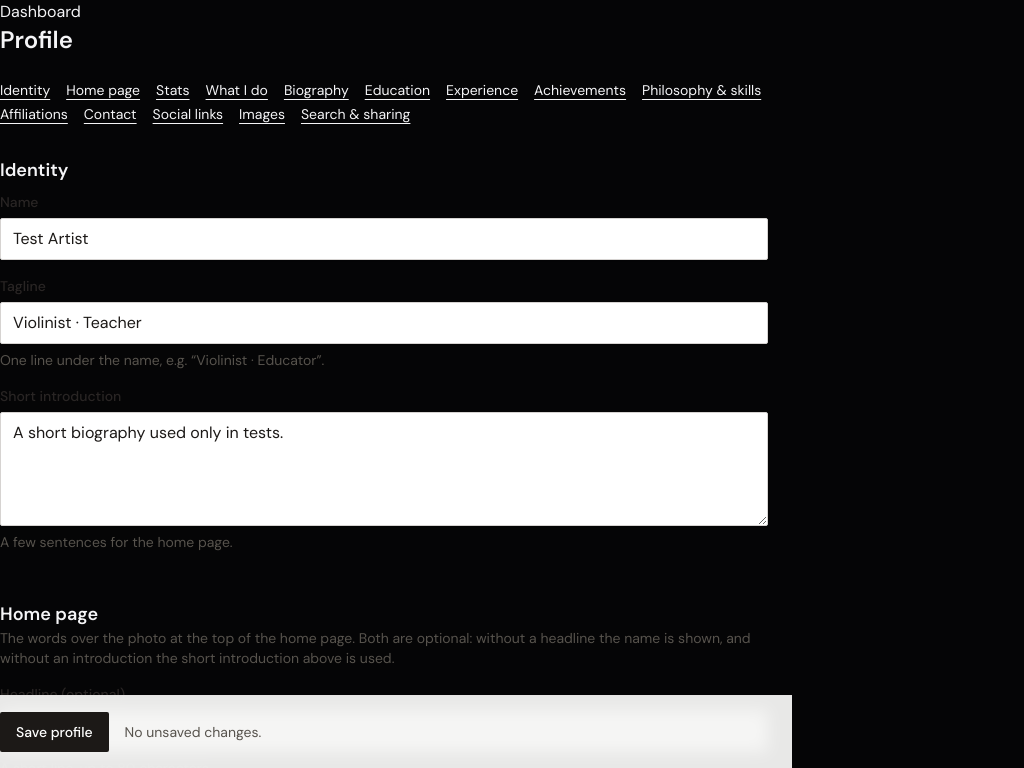
profile editor › asks before leaving with unsaved changes
This screenshot has width=1024, height=768.
Type " and more" into the field labelled "Tagline" at (384, 323), box [0,302,768,344]
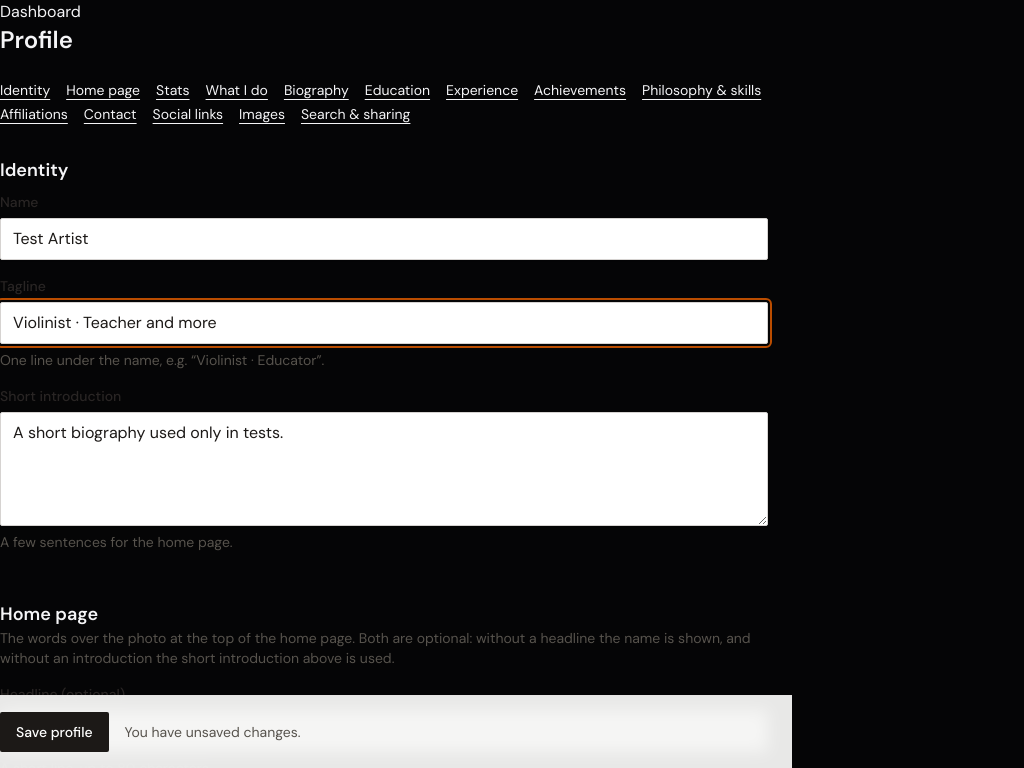
Click the link "Dashboard" at (40, 12), box [0,1,81,22]
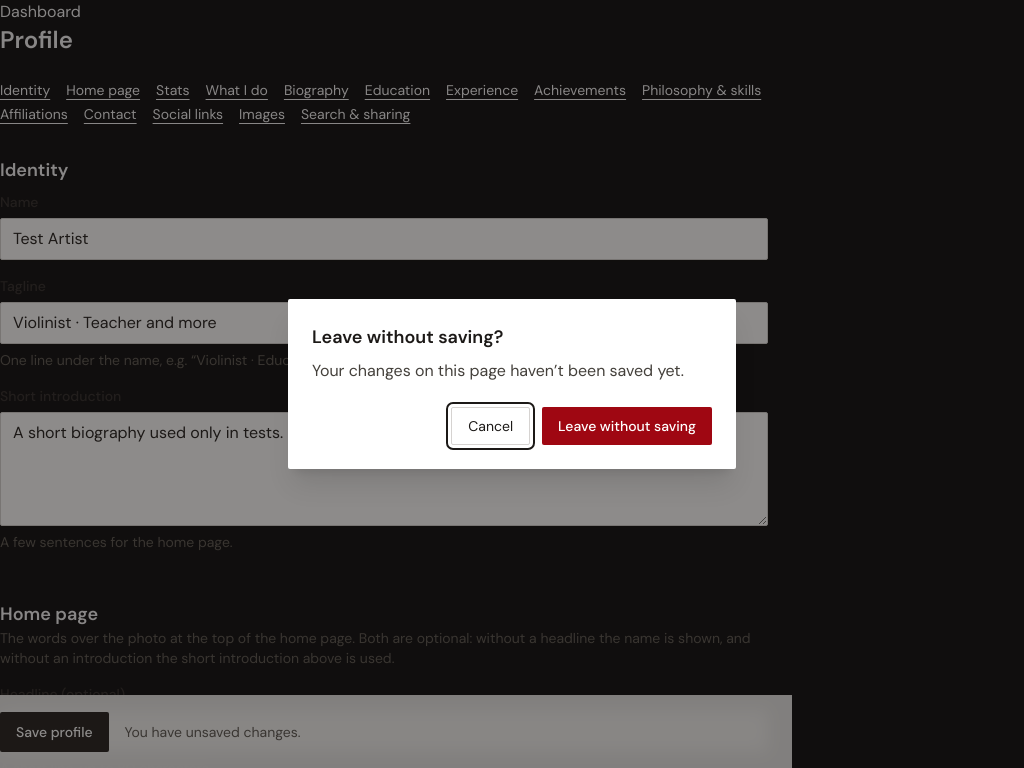
Click the button "Cancel" at (491, 426), box [451,407,530,445]
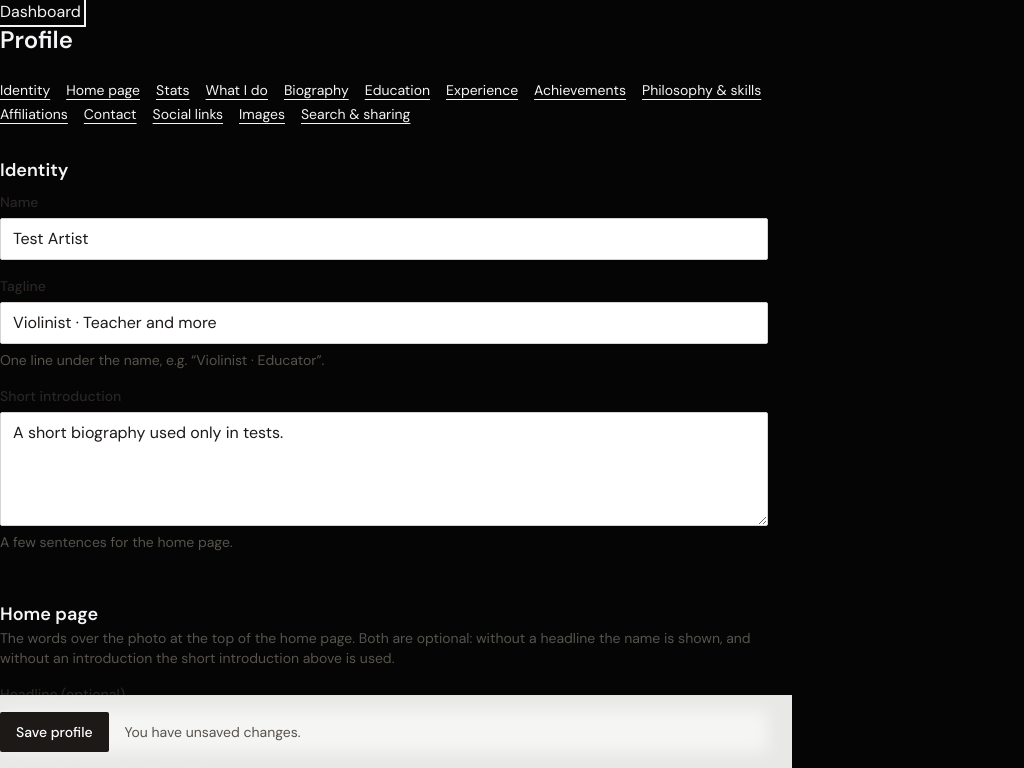
Check: the field labelled "Tagline" holds "Violinist · Teacher and more", box [0,302,768,344]
Click the link "Dashboard" at (40, 12), box [0,1,81,22]
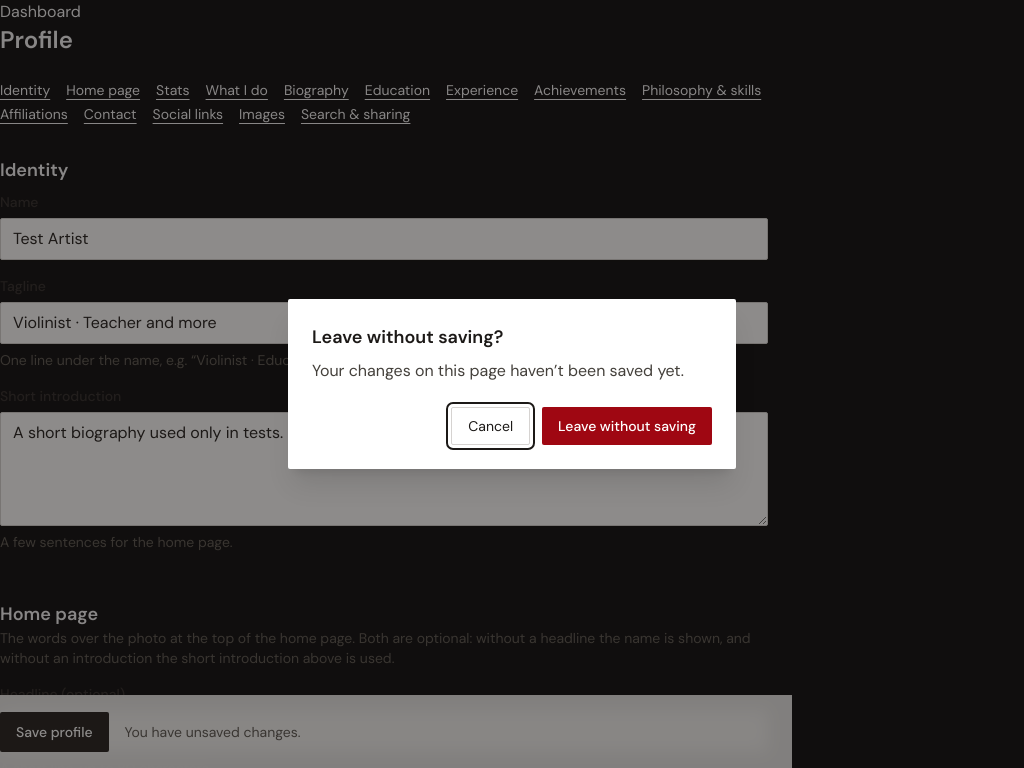
Click the button "Leave without saving" at (627, 426), box [542,407,712,445]
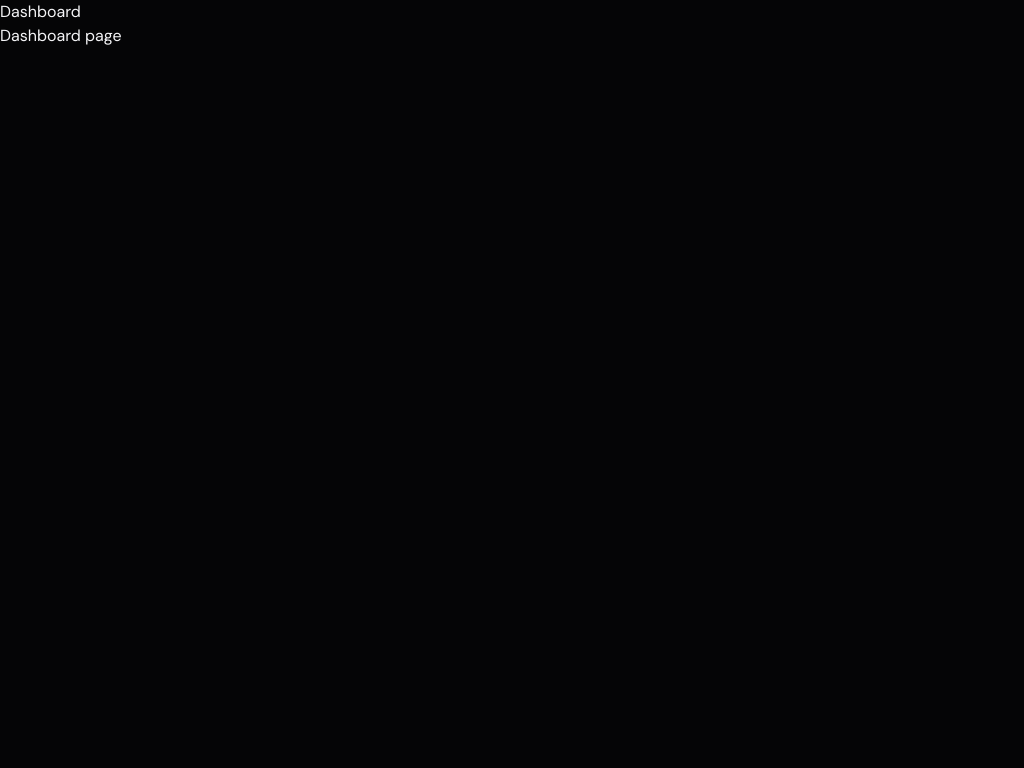
Check: the heading "Dashboard page" is shown, box [0,25,122,46]
